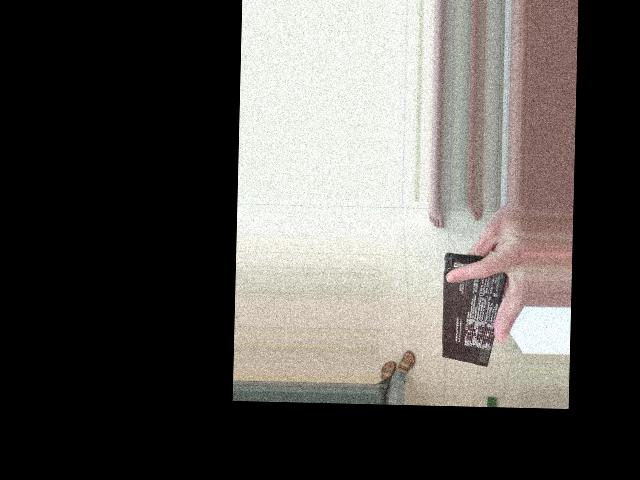chocolate: (372, 255, 498, 336)
